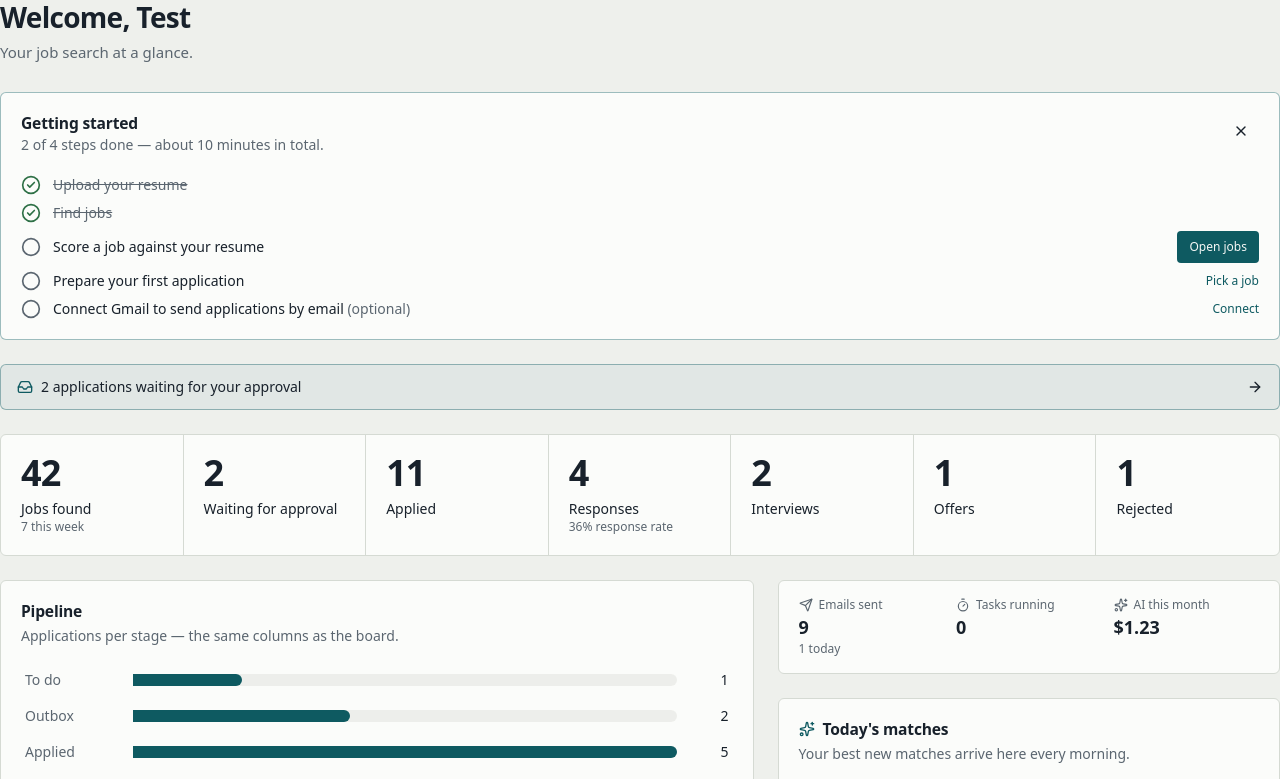
Getting started (Phase 18) › ticks off done steps, points to the next one, and can be hidden
Check: the text "2 of 4 steps done — about 10 minutes in total." is shown, box [21,135,324,155]
Check: the number of icons named "Done" is 2, box [21,175,41,195]; [21,203,41,223]
Click the button named "Hide getting started".
click(1241, 131)  # box [1223,113,1259,149]
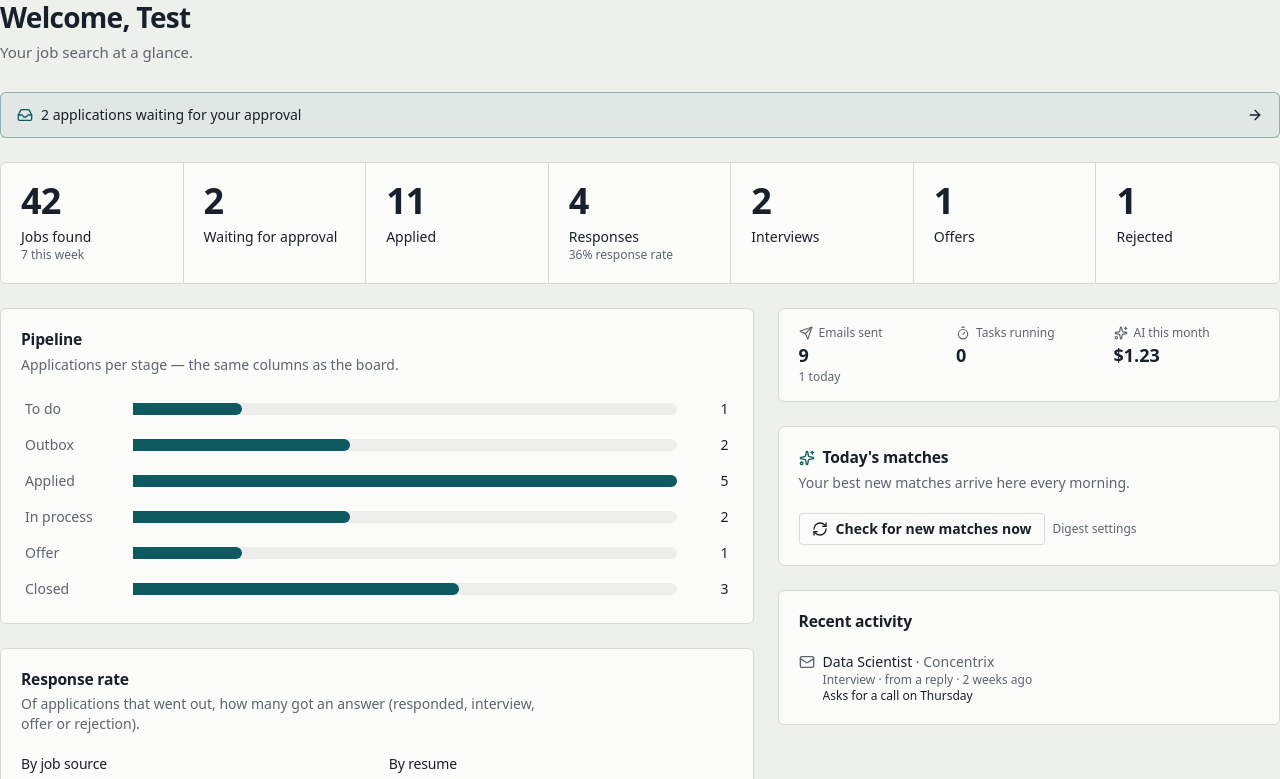
Check: the heading "Getting started" is gone
